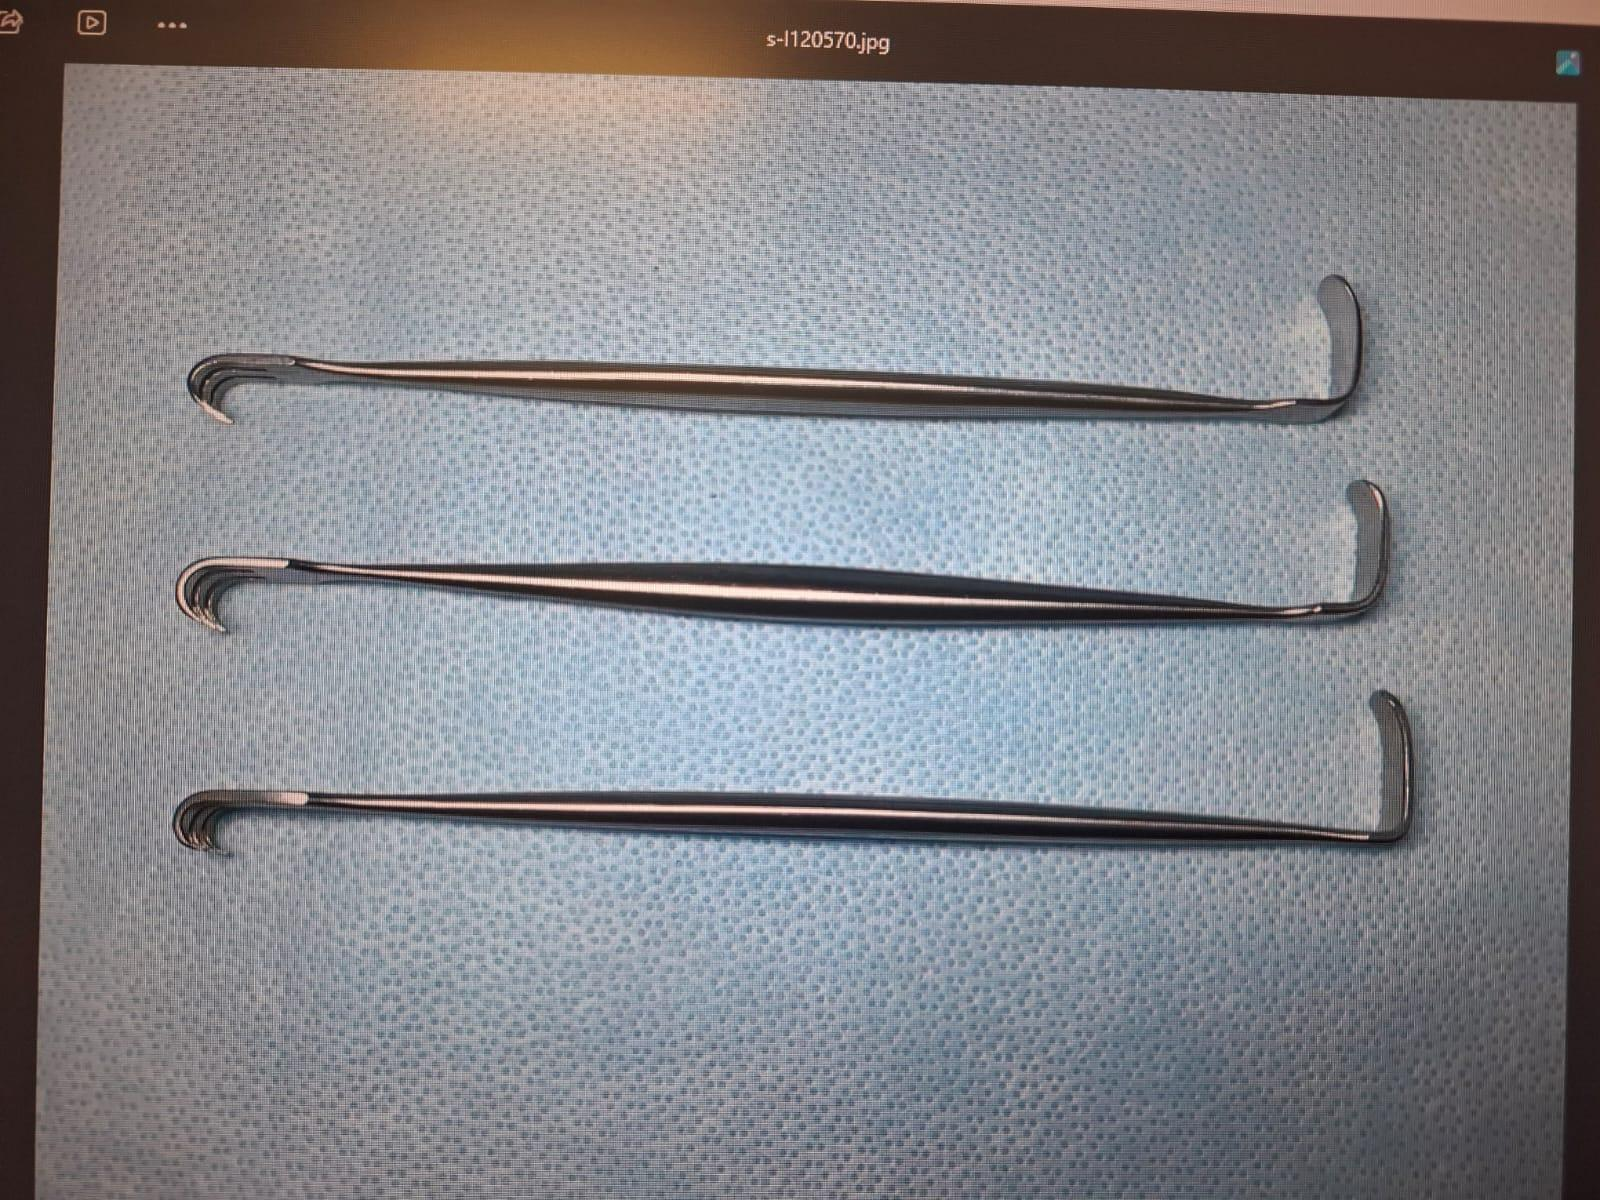Senn Retractor: (160, 674, 1446, 908), (168, 252, 1386, 454), (158, 466, 1416, 648)
